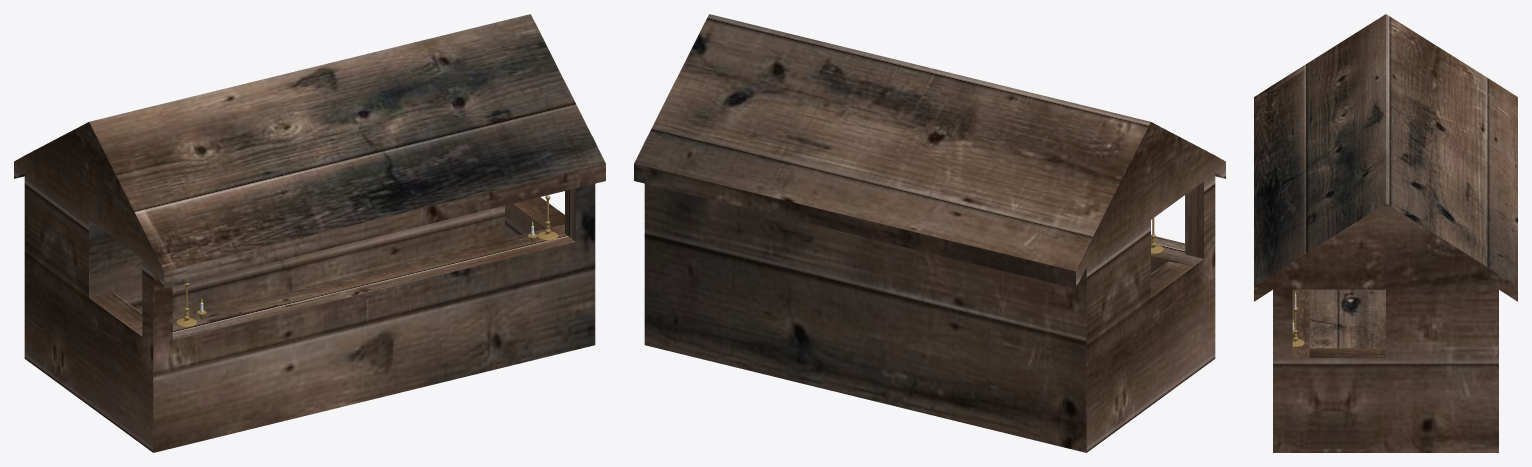
Rendered from shop.fbx.
The picture shows the model from 3 angles, left to right: view 1: azimuth 30°, elevation 25°; view 2: azimuth 150°, elevation 25°; view 3: azimuth 270°, elevation 25°; orthographic projection. The views are drawn at different scales.
Parts seen in each view (by area): view 1: Cube.010; view 2: Cube.010; view 3: Cube.010.
Boxes of the visible parts, <box> form: Cube.010: <box>14,14,605,452</box>; Cube.010: <box>634,14,1225,452</box>; Cube.010: <box>1254,14,1517,452</box>.
Size of the model in its own units: 1203 by 753 by 708.
